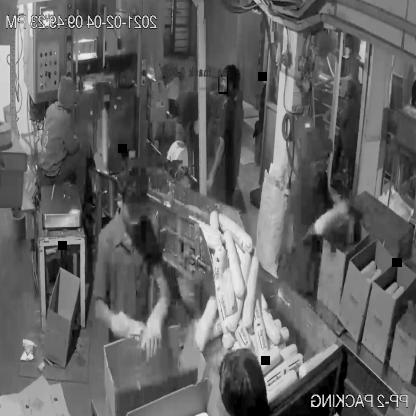glove: (139, 289, 169, 371), (109, 300, 148, 351)
no_glove: (202, 128, 232, 199), (284, 215, 321, 265)
